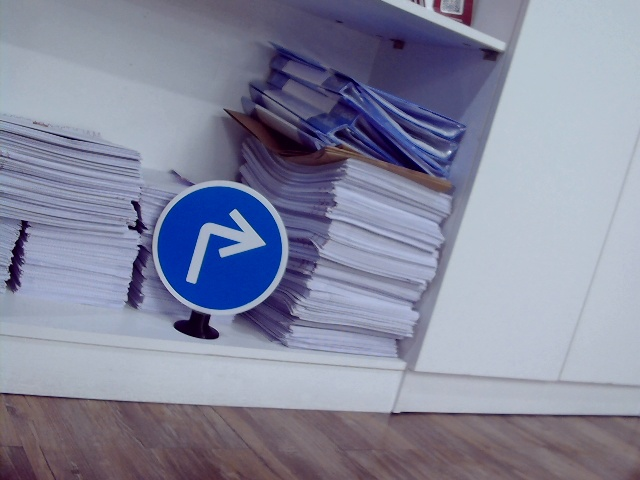turn_right: (182, 210, 267, 291)
